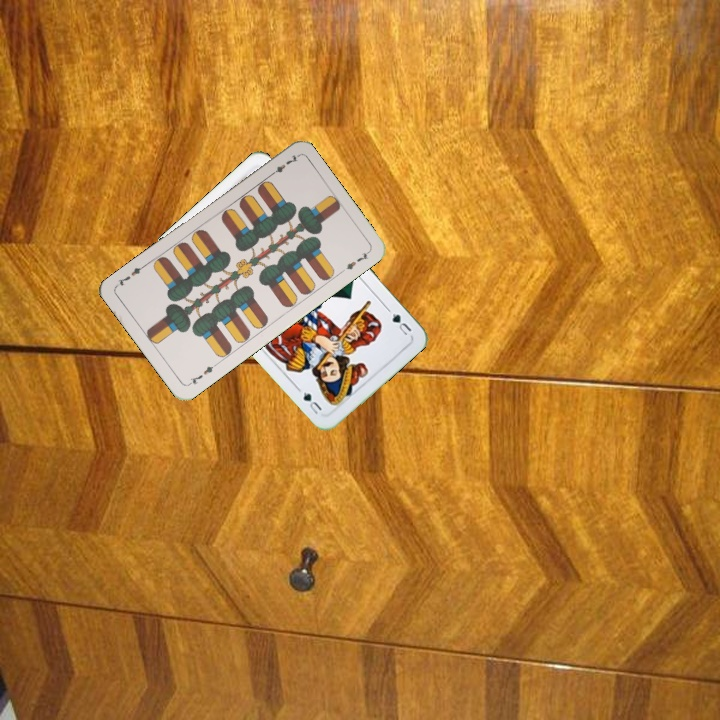E7: (265, 151, 301, 179), (185, 360, 220, 388)
GU: (383, 305, 414, 338)
